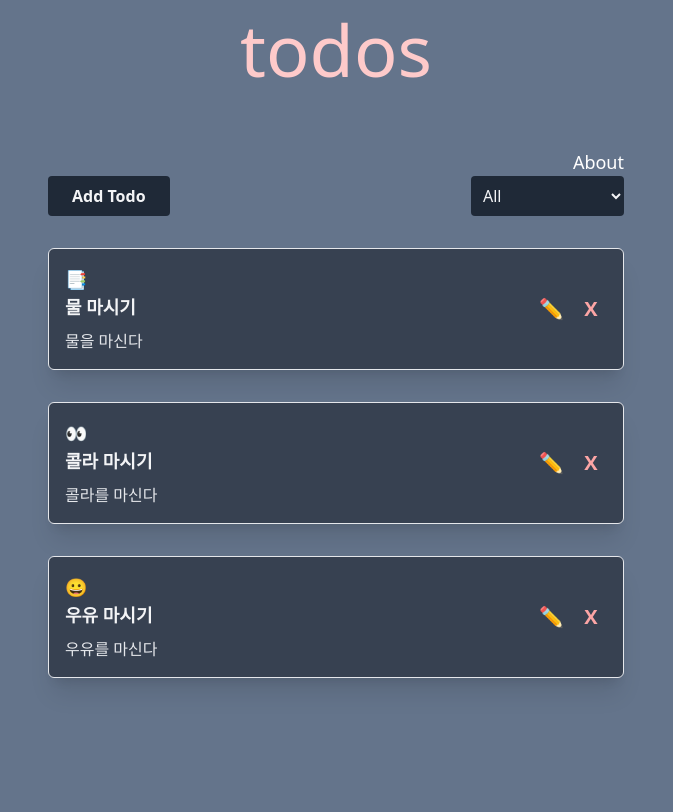
Test case: todo 관리 › 새로운 Todo를 작성할 수 있다.
Click the button "Add Todo" at x=109, y=196, box [48,176,170,216]
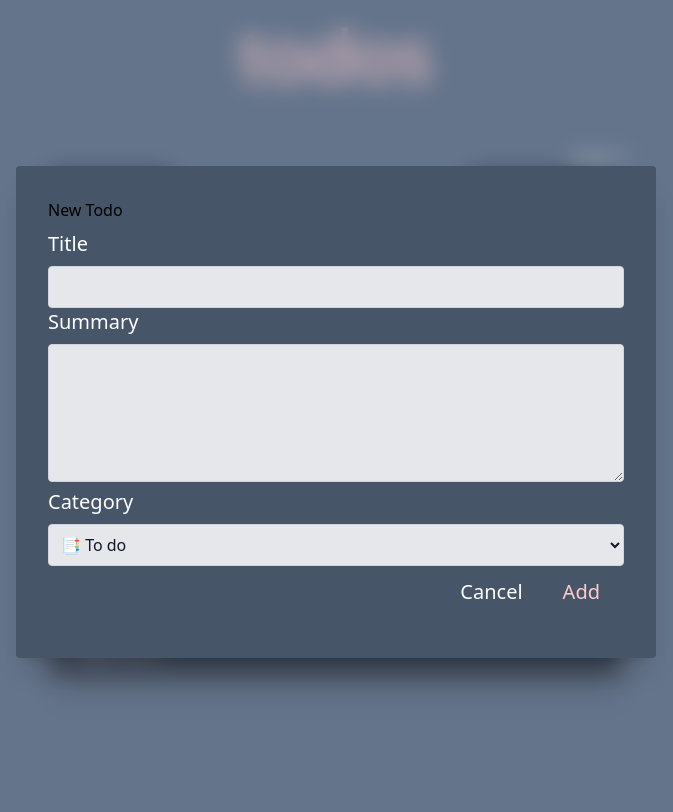
Type "커피 마시기" into the field with id "title" at x=336, y=287, box [48,266,624,308]
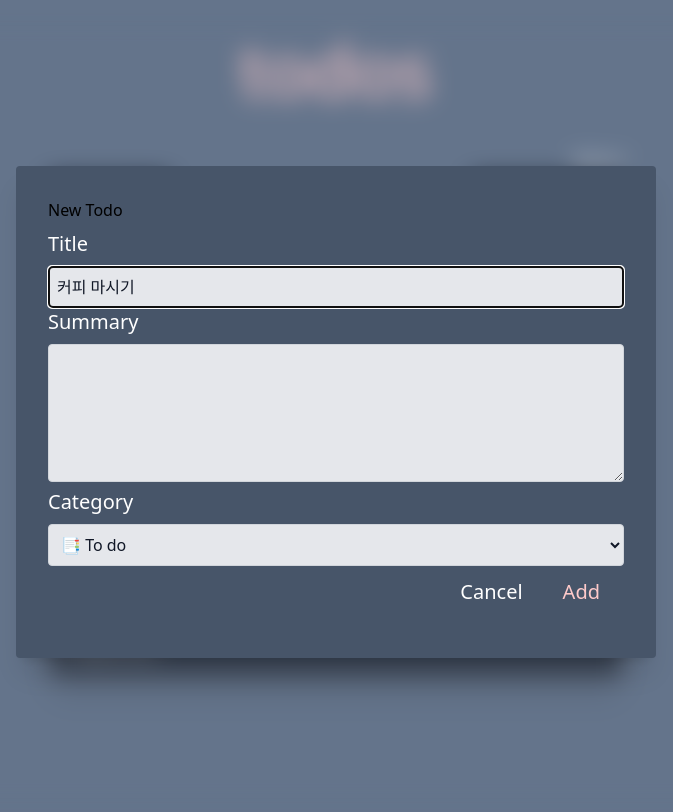
Type "커피를 마신다" into the text box with id "summary" at x=336, y=413, box [48,344,624,482]
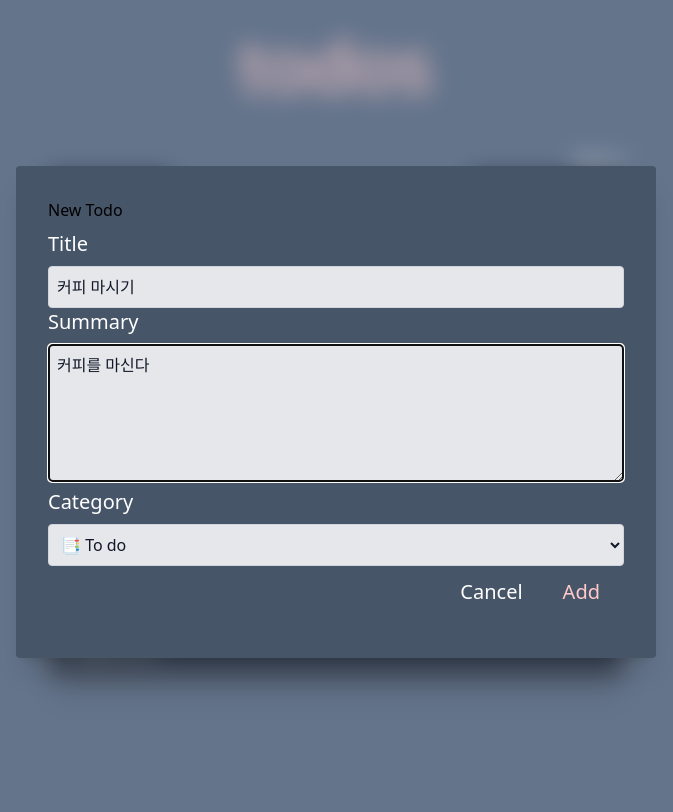
Click the button "Add" at x=582, y=592, box [539,566,624,618]
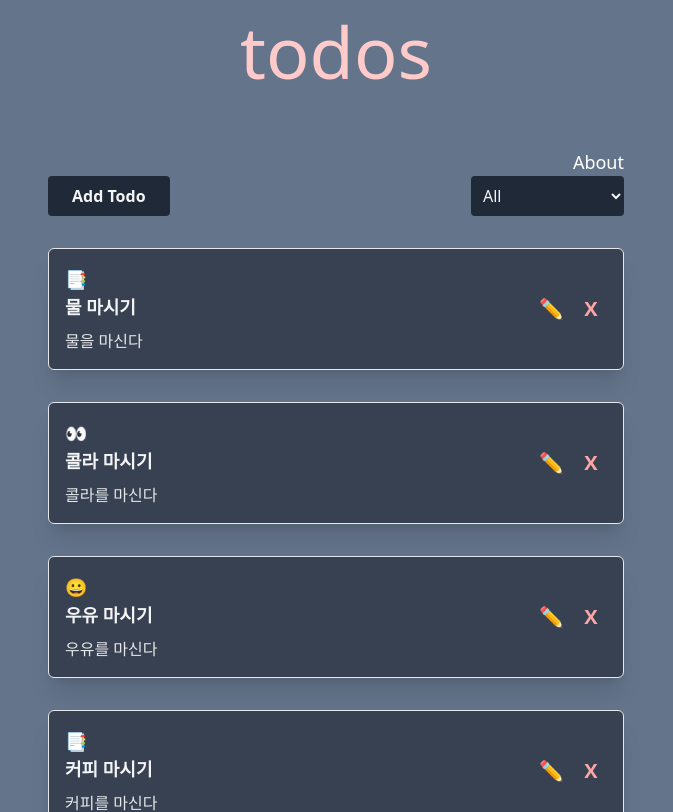
Now the element with test id "modal-container" is gone
Now the number of list items is 4, box [48,248,624,370]; [48,402,624,524]; [48,556,624,678]; [48,710,624,811]
Now the heading "커피 마시기" is shown, box [65,755,158,783]
